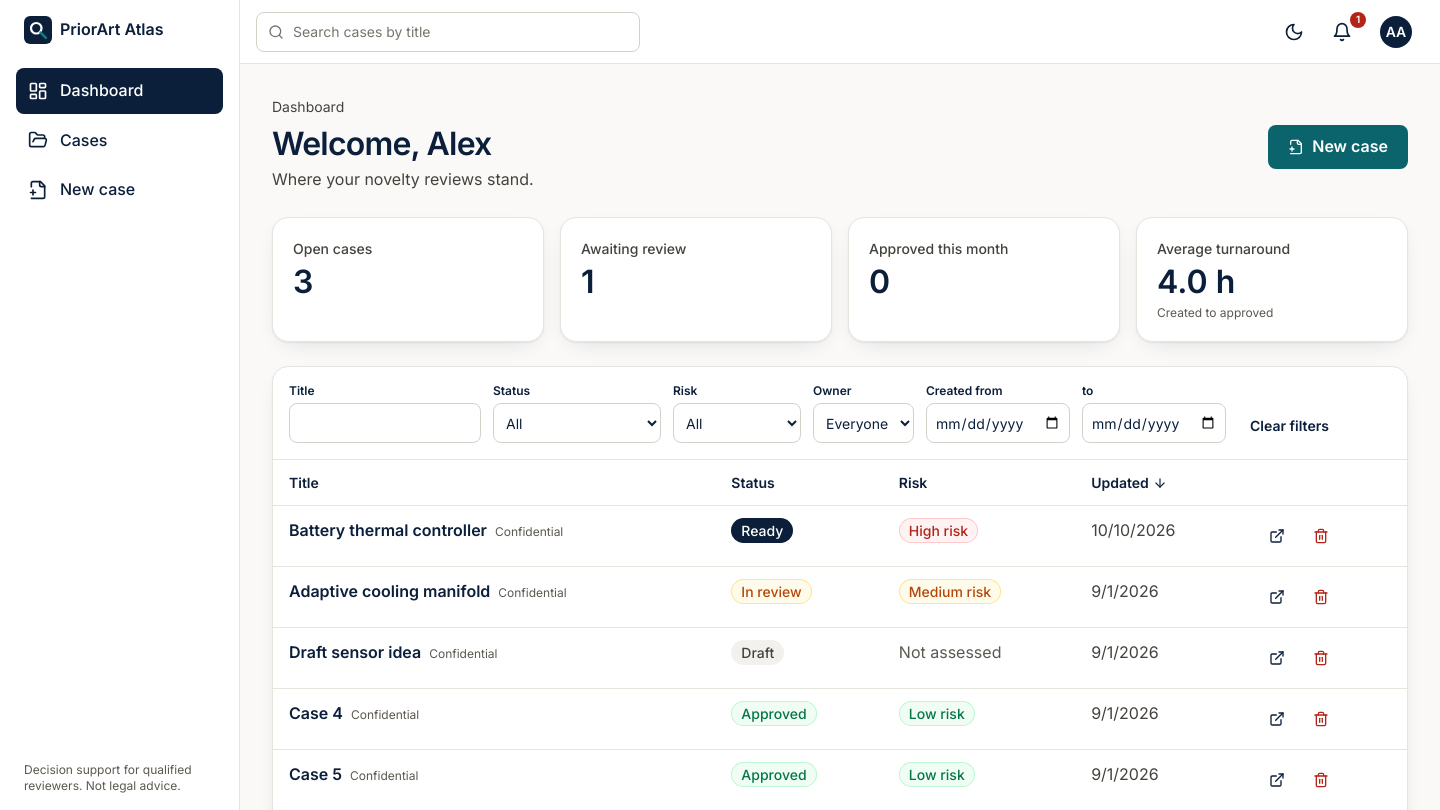
Test: sign-in and guards › logs out and returns to the login page
Click the button named "Account menu": (1396,32) 1368,14 -> 1424,50
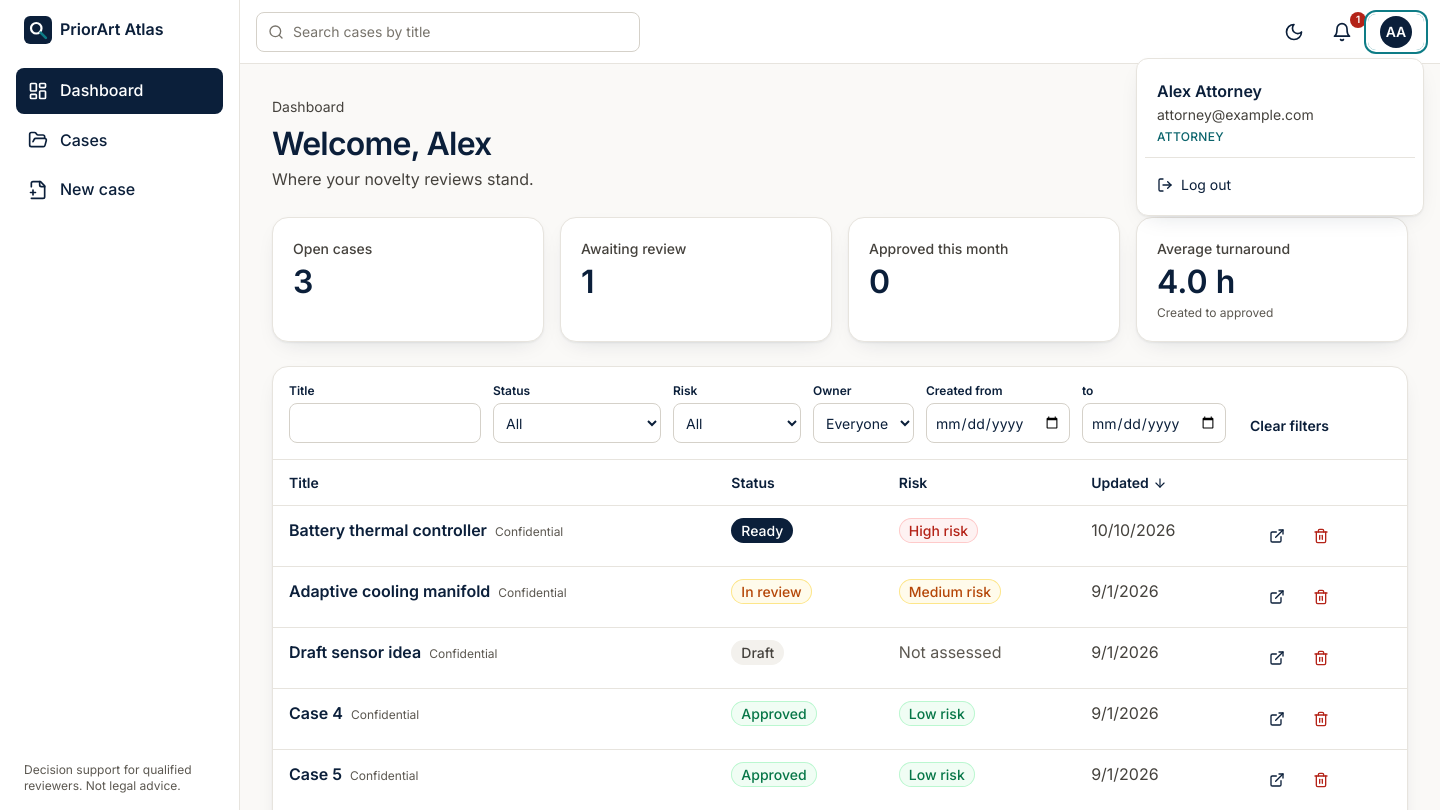
Click the button "Log out": (1206,185) 1145,162 -> 1415,207
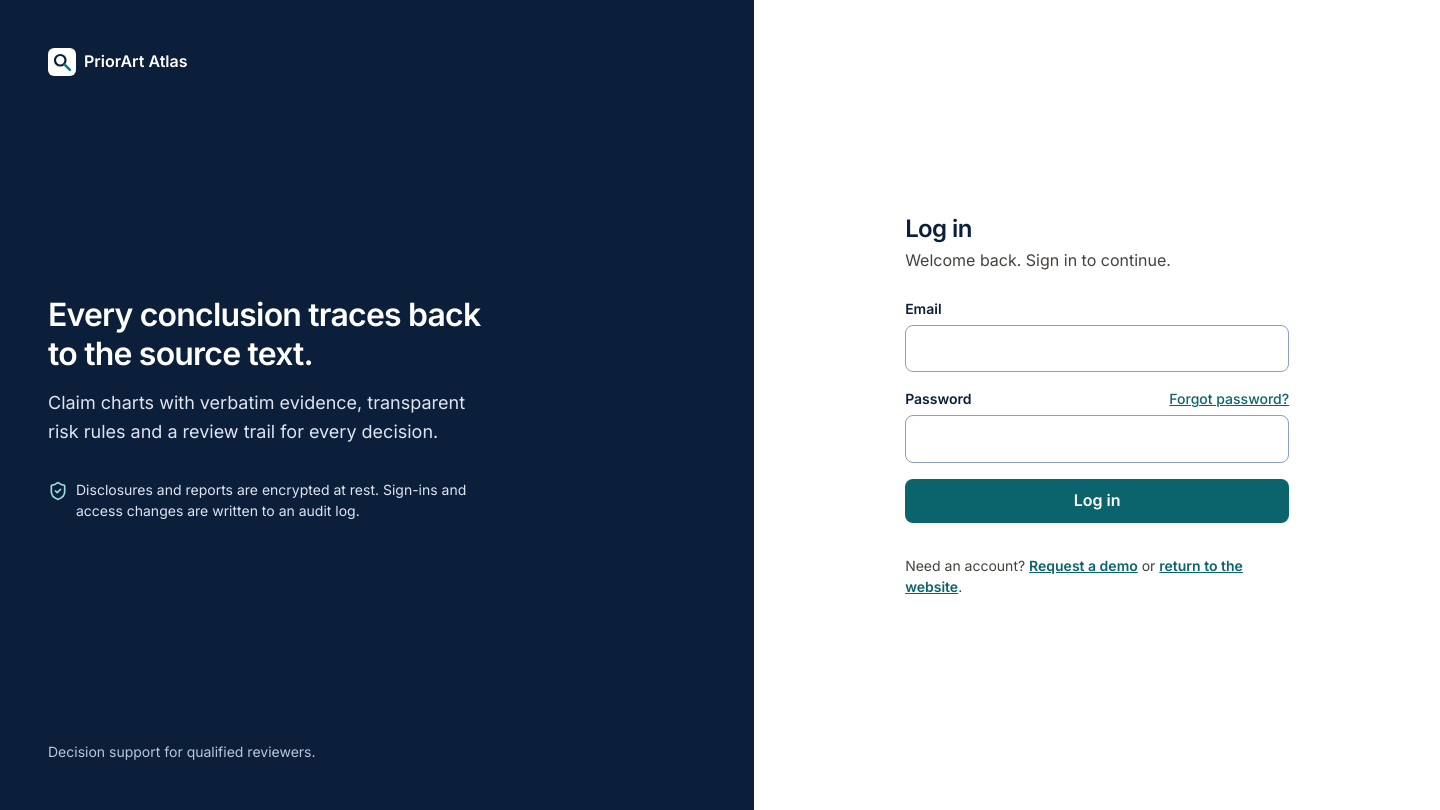
Check: the heading "Log in" is shown, box 905,214 -> 972,243
